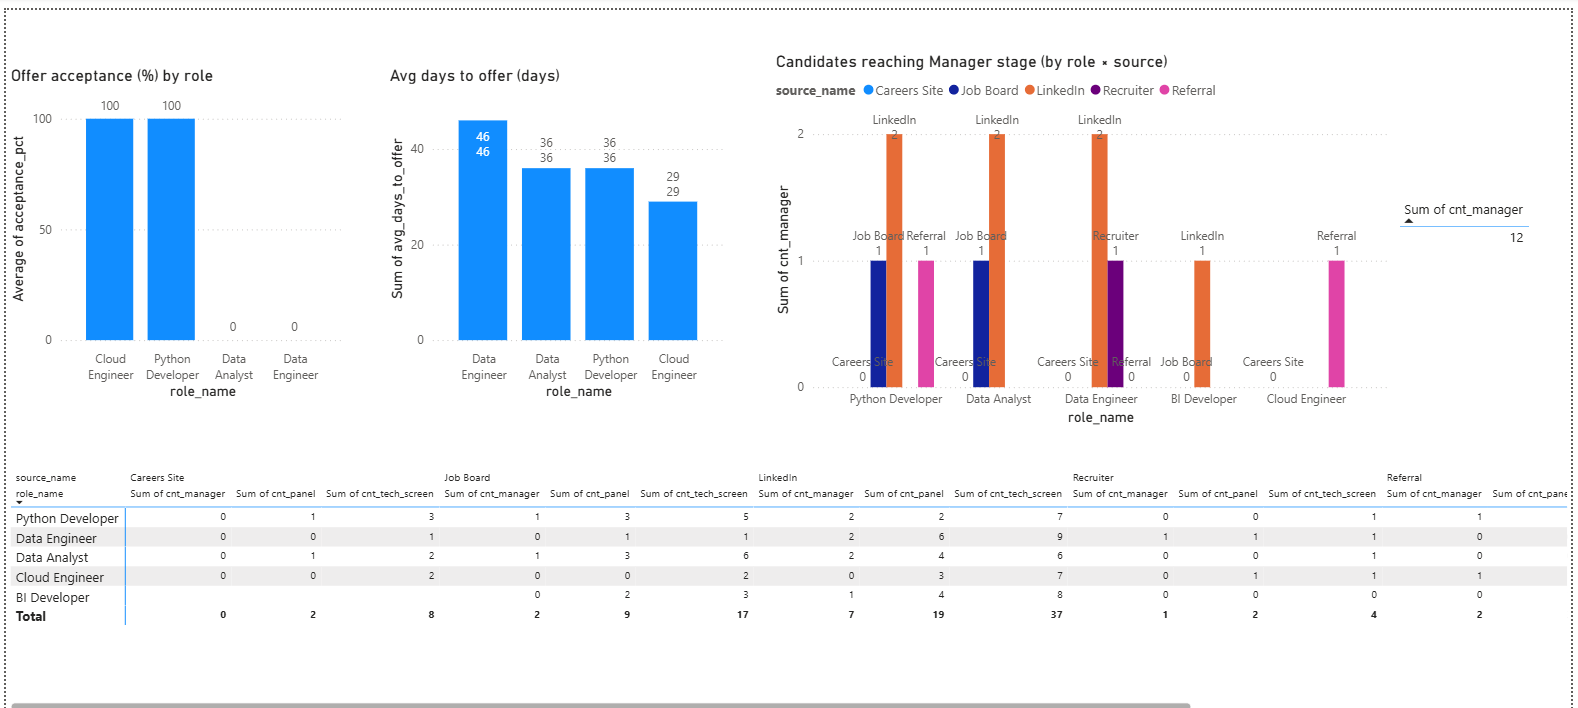

This screenshot's page, from the dashboard's own definition file:
{"tool":"powerbi","page":{"name":"Page 1","canvas":[1600,1100],"ordinal":0},"visuals":[{"type":"clusteredColumnChart","title":"Offer acceptance (%) by role","fields":{"Category":["vw_offer_acceptance.role_name"],"Y":["Avg(vw_offer_acceptance.acceptance_pct)"]},"box":[0,56.2,351.3,346.2],"z":0},{"type":"clusteredColumnChart","title":"Avg days to offer (days)","fields":{"Category":["vw_time_to_offer.role_name"],"Y":["Sum(vw_time_to_offer.avg_days_to_offer)"]},"box":[387,56.2,352.5,346.2],"z":1000},{"type":"pivotTable","title":"Candidates reaching Manager stage (by role × source)","fields":{"Rows":["vw_funnel_conversions.role_name"],"Columns":["vw_funnel_conversions.source_name"],"Values":["Sum(vw_funnel_conversions.cnt_manager)","Sum(vw_funnel_conversions.cnt_panel)","Sum(vw_funnel_conversions.cnt_tech_screen)"]},"box":[0,463.7,1600.5,258],"z":2000},{"type":"tableEx","fields":{"Values":["Sum(vw_funnel_conversions.cnt_manager)"]},"box":[1417.9,187.8,164.8,85.6],"z":3000},{"type":"clusteredColumnChart","title":"Candidates reaching Manager stage (by role × source)","fields":{"Category":["vw_funnel_conversions.role_name"],"Y":["Sum(vw_funnel_conversions.cnt_manager)"],"Series":["vw_funnel_conversions.source_name"]},"box":[781.7,42.2,636.1,387],"z":4000}]}

Visuals, with their boxes on the page's 1600x1100 design canvas (x1, y1, x2, y2). These are canvas units, not pixel positions in the 1578x708 screenshot, which may show the page scaled, cropped or inside an application window:
"Offer acceptance (%) by role" clusteredColumnChart: (0, 56, 351, 402)
"Avg days to offer (days)" clusteredColumnChart: (387, 56, 740, 402)
"Candidates reaching Manager stage (by role × source)" pivotTable: (0, 464, 1600, 722)
tableEx - Sum(vw_funnel_conversions.cnt_manager): (1418, 188, 1583, 273)
"Candidates reaching Manager stage (by role × source)" clusteredColumnChart: (782, 42, 1418, 429)
